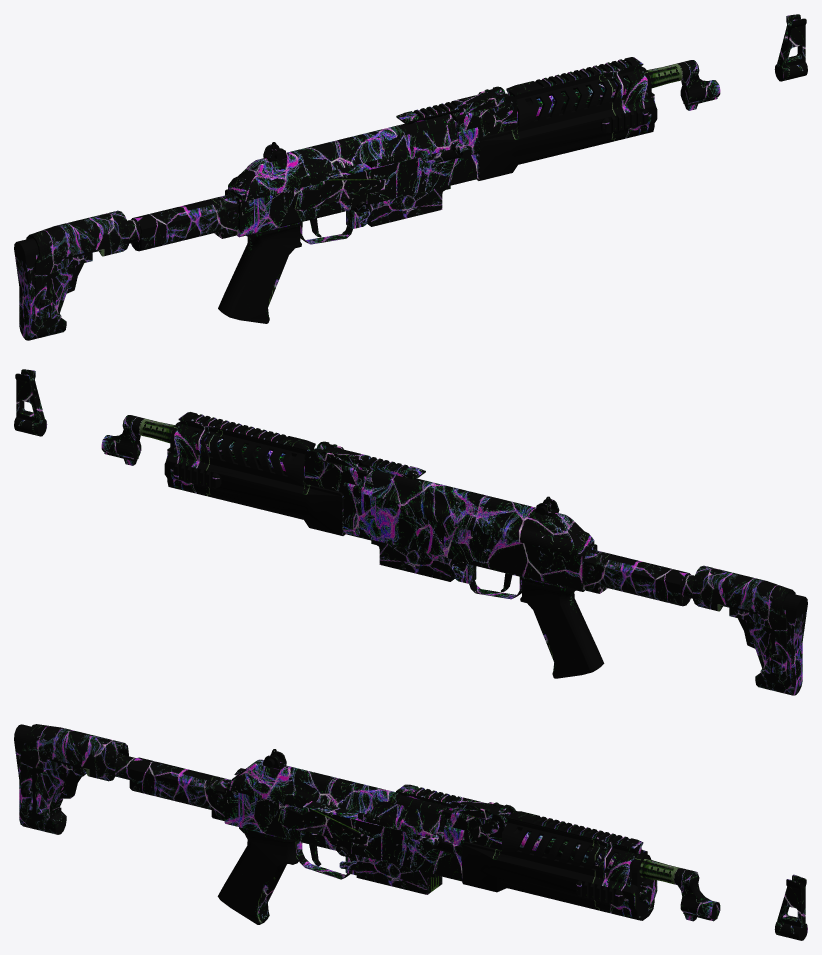
The model's file is assaultriflemk2_aq.glb.
3 renders of one model, top to bottom at view 1: azimuth 30°, elevation 25°; view 2: azimuth 150°, elevation 25°; view 3: azimuth 330°, elevation 25°, orthographic.
Visible parts, largest first — view 1: Gun_Root; view 2: Gun_Root; view 3: Gun_Root.
Part boxes in pixels (x1,y1,x2,y2): Gun_Root: (14,14,807,340); Gun_Root: (14,369,807,695); Gun_Root: (14,724,807,940).
Size of the model in its own units: 0.873 by 0.1873 by 0.0659.
2 materials, 2 textured.
